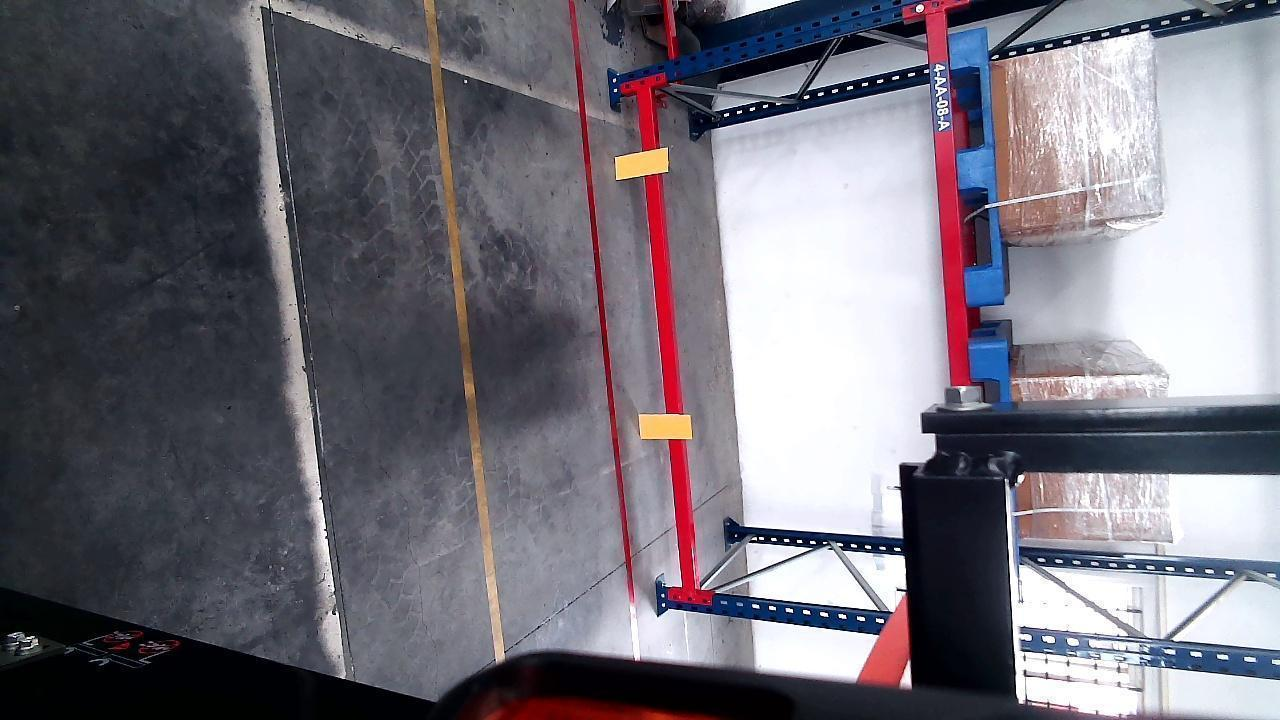red_line: (564, 0, 642, 664)
yellow_line: (419, 0, 510, 657)
